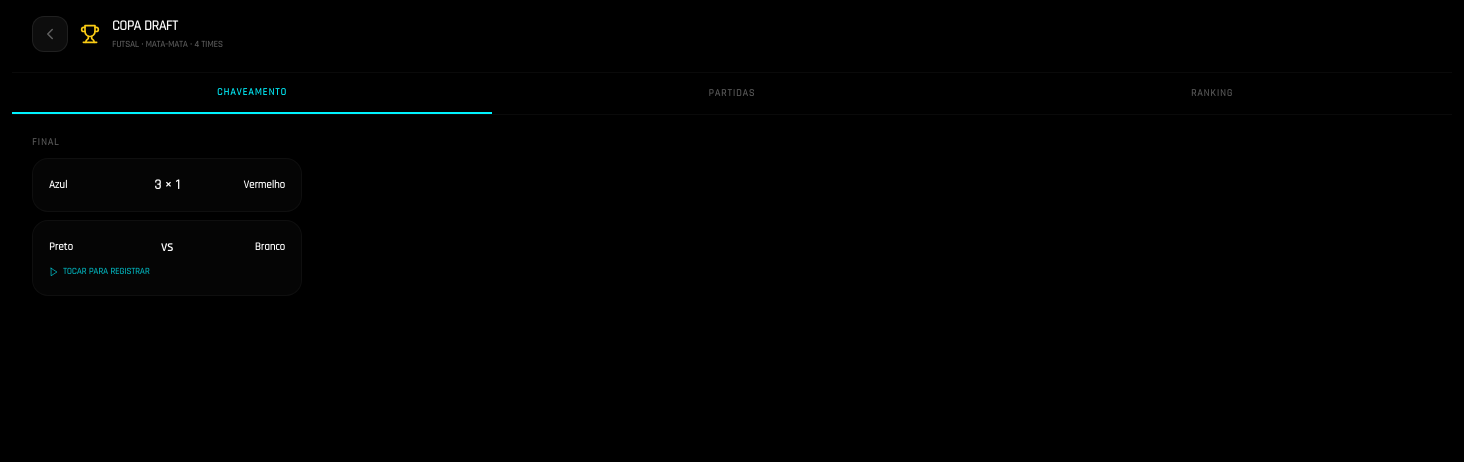
Scenario: TournamentPage › tab ranking › ranking vazio: seções existem mas listas ficam em branco
This screenshot has width=1464, height=462.
Click the button "Ranking" at {"x": 1212, "y": 94}, box left=972, top=73, right=1452, bottom=114
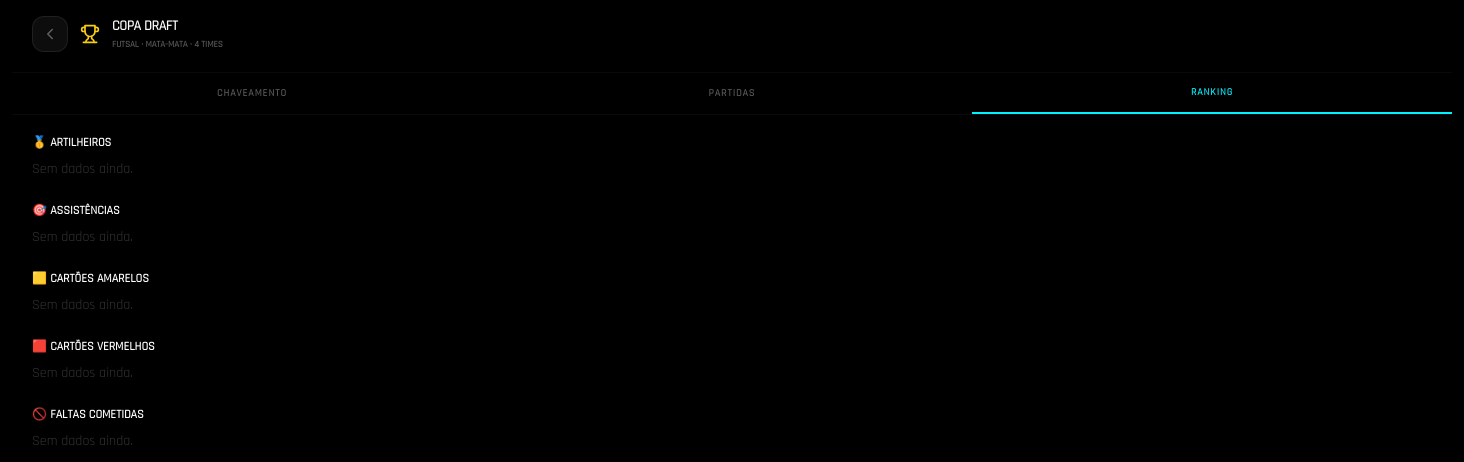
Now the heading "🥇 Artilheiros" is shown, box left=32, top=135, right=111, bottom=150
